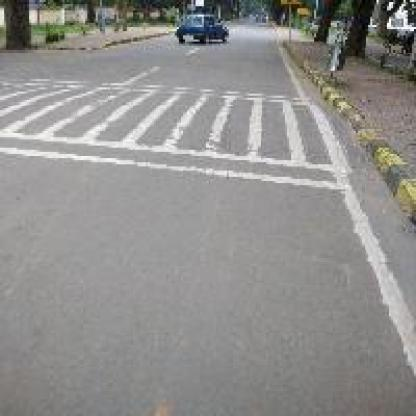Speed Bump: (0, 71, 354, 189)
